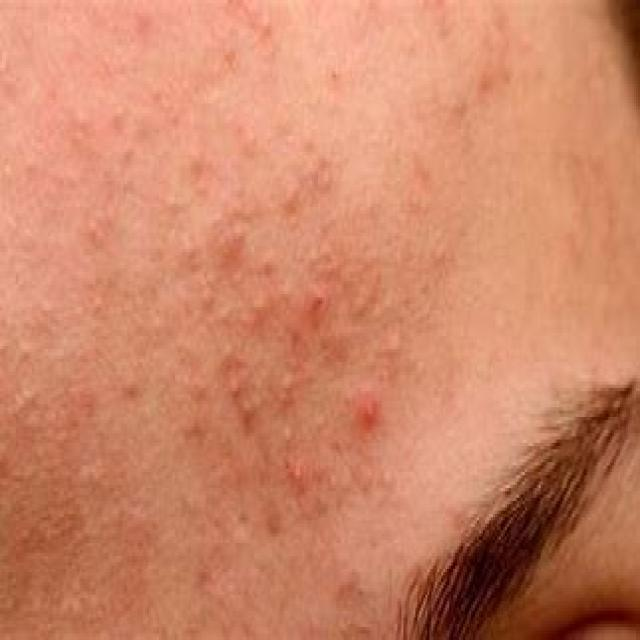fungal: (1, 5, 433, 541)
